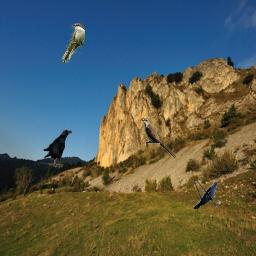Crow: (43, 129, 72, 169)
Cuckoo: (141, 118, 176, 158), (62, 23, 85, 63), (194, 180, 219, 209)
